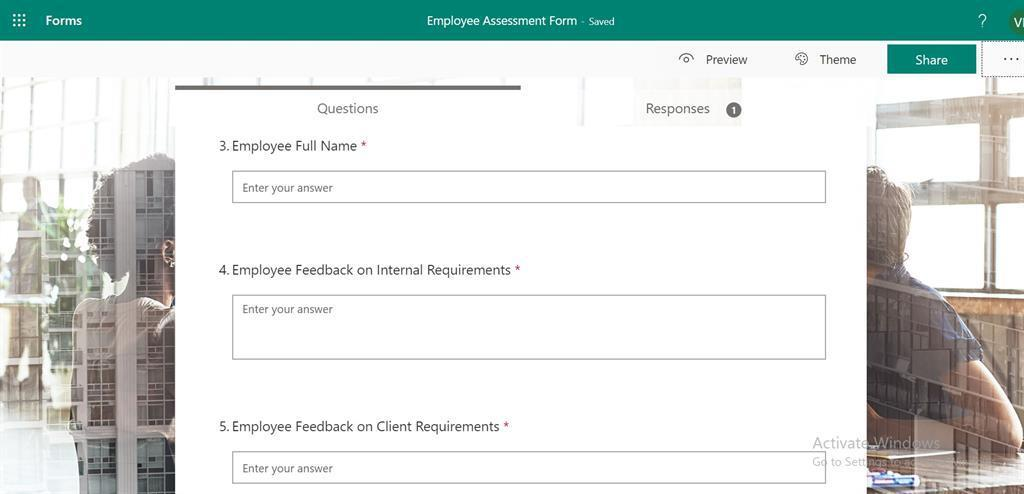button: (887, 47, 978, 75)
icon: (675, 51, 700, 70), (792, 50, 814, 67), (1002, 52, 1024, 69), (977, 10, 991, 33)
input: (233, 171, 828, 205), (233, 450, 825, 482)
label: (217, 262, 527, 282), (214, 419, 514, 437), (216, 135, 370, 158), (645, 101, 713, 118), (317, 104, 389, 119), (707, 52, 749, 69), (820, 54, 858, 67)
